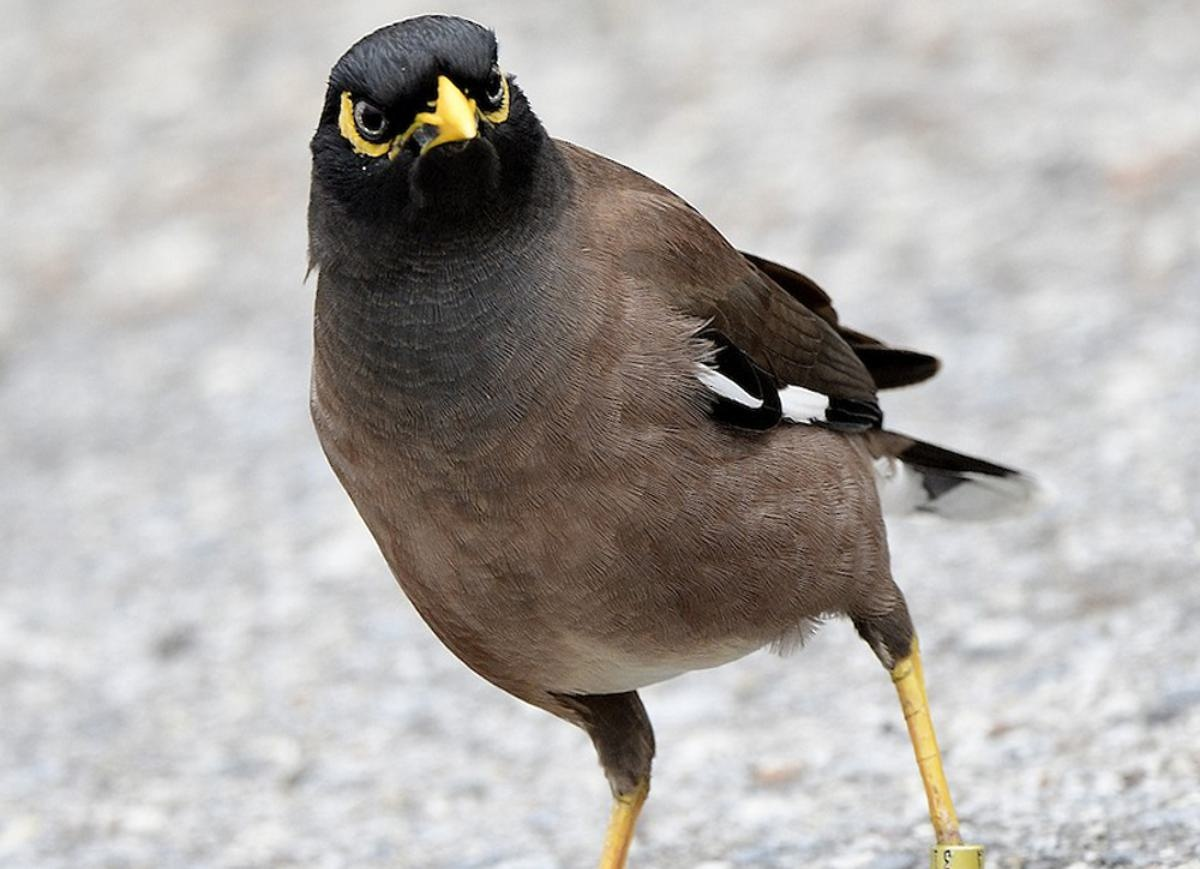myna: (237, 10, 1007, 817)
